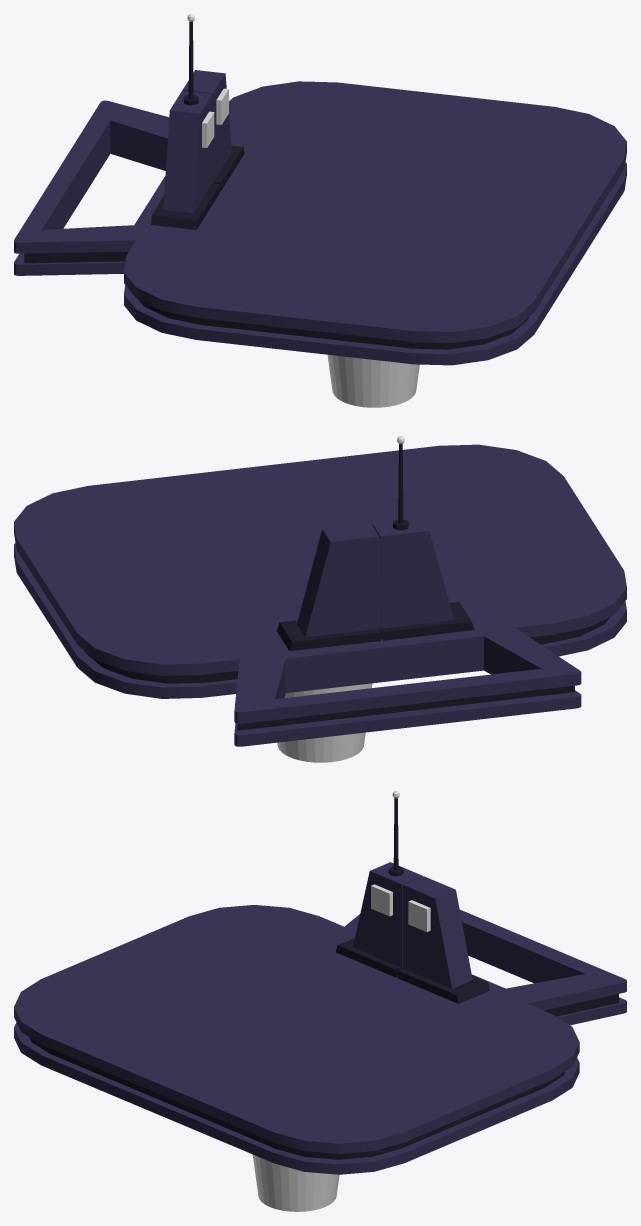
File: Platform.fbx
3 views of the same model, one above another, from view 1: azimuth 30°, elevation 25°; view 2: azimuth 150°, elevation 25°; view 3: azimuth 270°, elevation 25° (orthographic). The views are drawn at different scales.
Parts seen in each view (by area): view 1: Winda.003, Cube.006, Cylinder.003; view 2: Winda.003, Cube.006, Cylinder.003; view 3: Winda.003, Cube.006, Cylinder.003.
Boxes of the visible parts, x1,y1,x2,y2 form: Winda.003: (14, 81, 626, 365); Cube.006: (151, 14, 244, 229); Cylinder.003: (327, 354, 419, 407); Winda.003: (14, 444, 626, 746); Cube.006: (277, 436, 474, 651); Cylinder.003: (277, 683, 372, 762); Winda.003: (14, 905, 626, 1174); Cube.006: (335, 791, 489, 1003); Cylinder.003: (252, 1154, 339, 1211).
Bounding box in the file's own units: 239 × 148 × 239.
